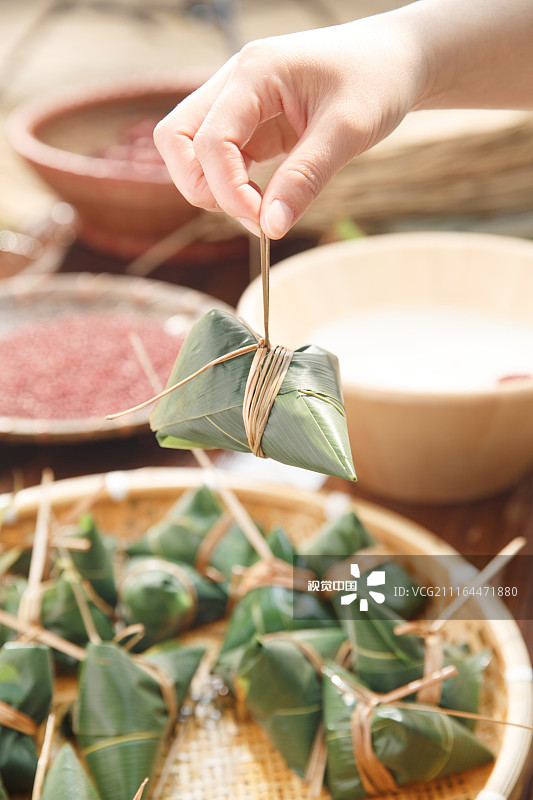no-phone: (123, 4, 487, 257)
